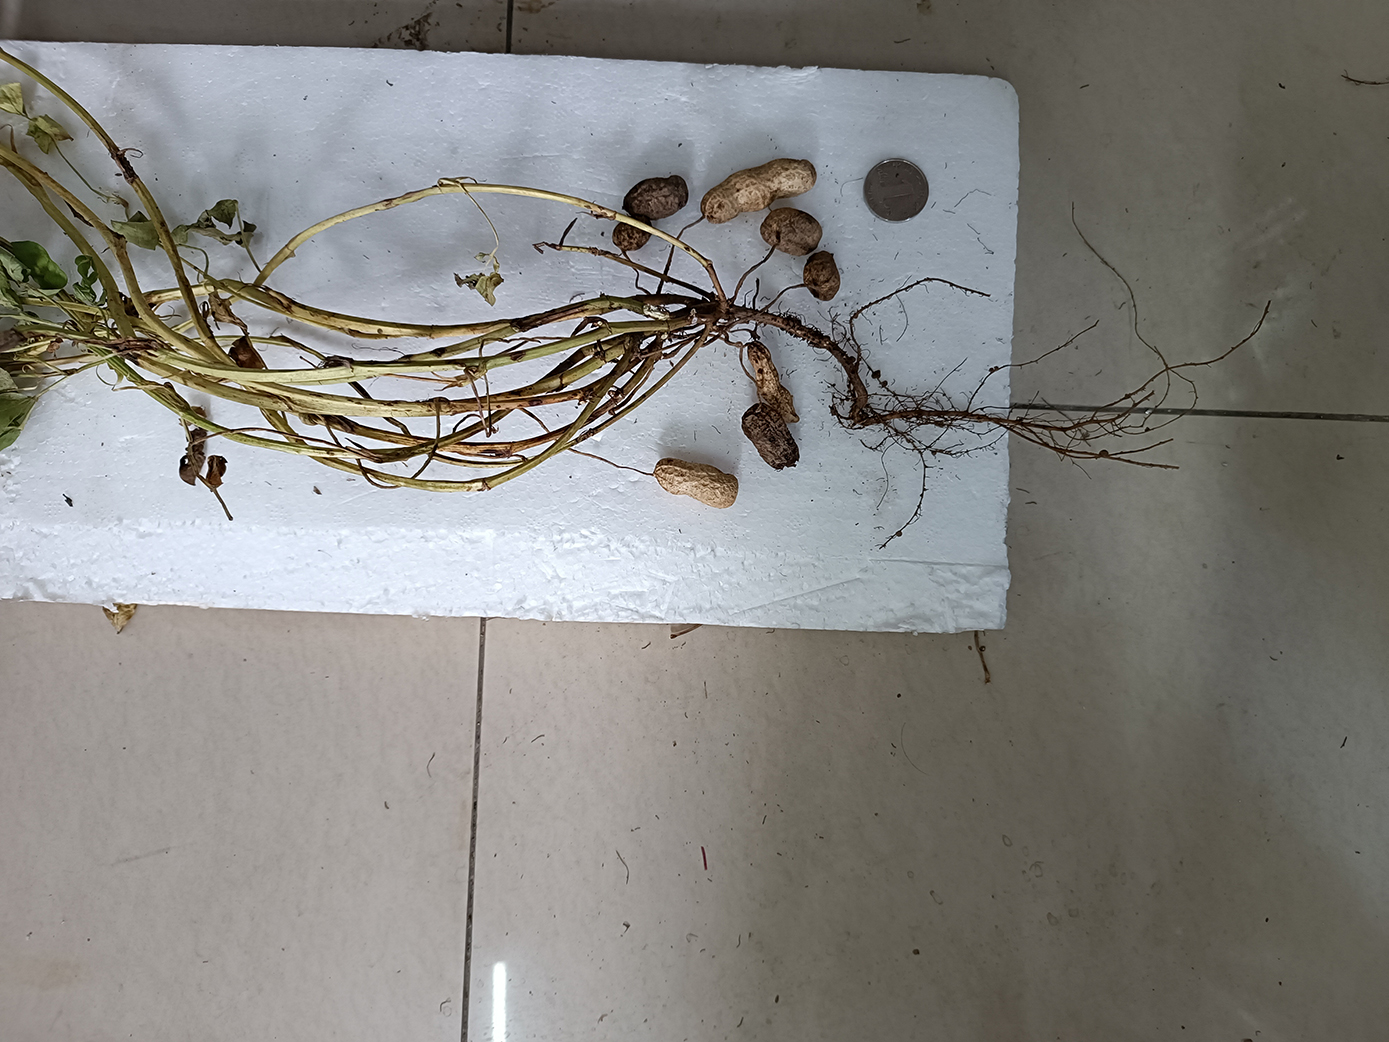h: (699, 158, 817, 222), (655, 458, 738, 507)
l: (746, 340, 798, 425), (743, 406, 801, 471), (760, 208, 823, 253), (627, 174, 690, 219), (801, 252, 840, 300), (610, 216, 652, 251)
